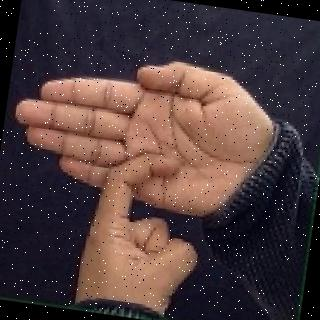R: (0, 37, 302, 320)
